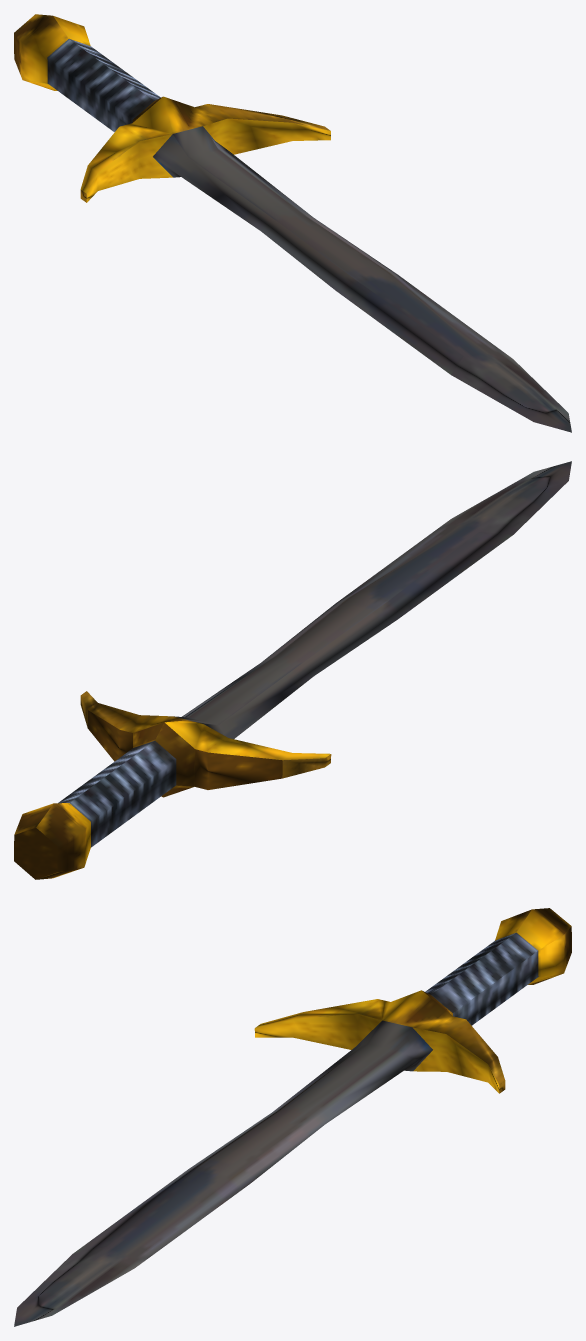
File: Sword.obj
3 renders of one model, top to bottom at view 1: azimuth 30°, elevation 25°; view 2: azimuth 150°, elevation 25°; view 3: azimuth 330°, elevation 25°, orthographic.
Parts seen in each view (by area): view 1: Sword1; view 2: Sword1; view 3: Sword1.
Part boxes in pixels (x1,y1,x2,y2): Sword1: (14,14,571,432); Sword1: (14,461,571,879); Sword1: (14,908,571,1326).
Size of the model in its own units: 1.15 by 0.3393 by 4.37.
1 material, 1 textured.
